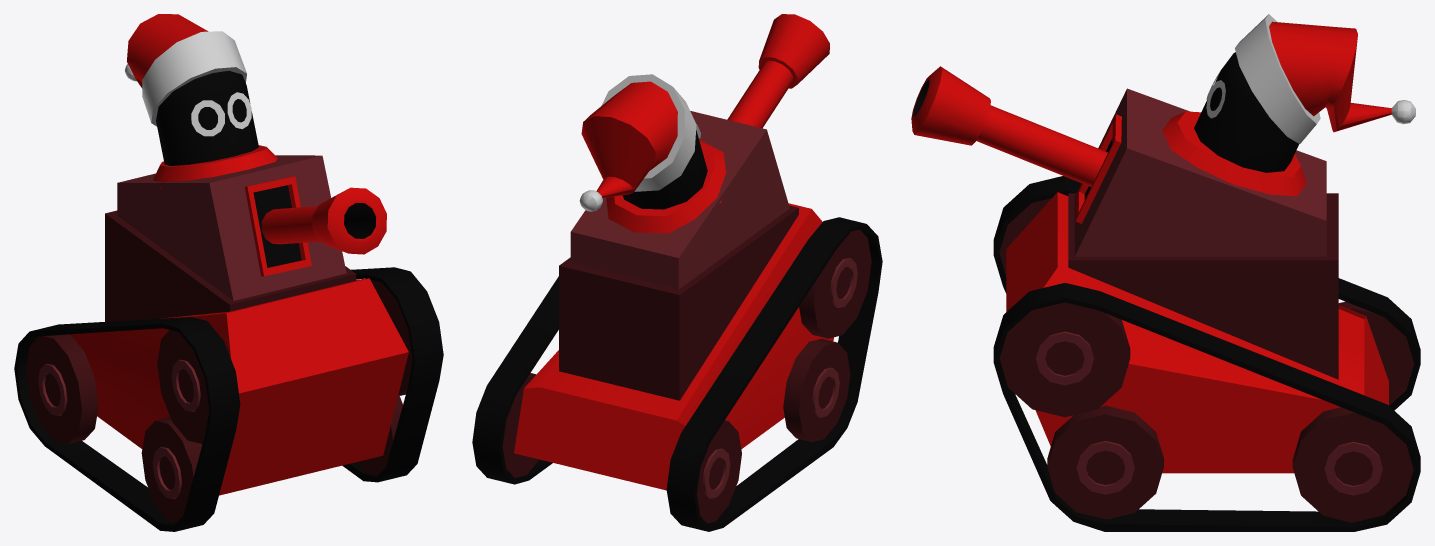
Rendered from tank.fbx.
The picture shows the model from 3 angles, left to right: view 1: azimuth 30°, elevation 25°; view 2: azimuth 150°, elevation 25°; view 3: azimuth 270°, elevation 25°; orthographic projection. The views are drawn at different scales.
Visible parts, largest first — view 1: onderstel, koepel, de dude, loop; view 2: onderstel, koepel, de dude, loop; view 3: onderstel, koepel, de dude, loop.
Boxes of the visible parts, x1,y1,x2,y2 form: onderstel: (14, 210, 443, 531); koepel: (117, 145, 346, 300); de dude: (125, 14, 258, 165); loop: (261, 187, 386, 254); onderstel: (472, 203, 882, 531); koepel: (570, 111, 789, 289); de dude: (579, 74, 707, 211); loop: (727, 14, 829, 128); onderstel: (993, 176, 1420, 531); koepel: (1074, 88, 1326, 256); de dude: (1194, 14, 1415, 172); loop: (911, 66, 1107, 186).
Size of the model in its own units: 133 by 228 by 234.
